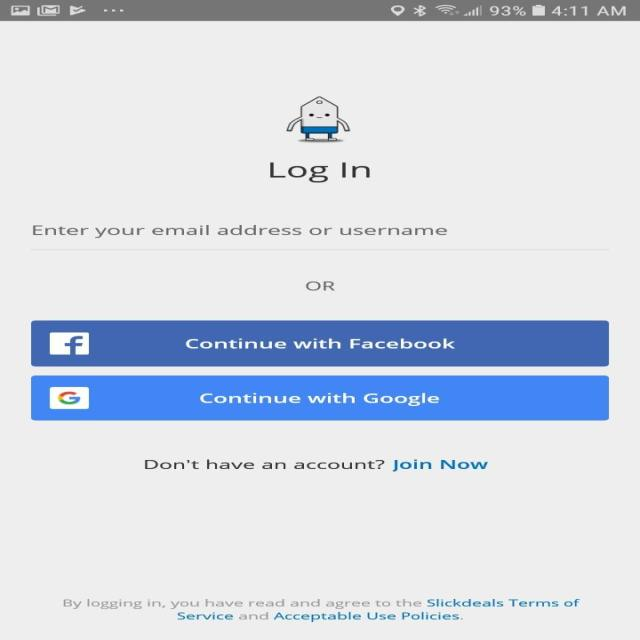EditText: (31, 224, 609, 251)
Image: (286, 96, 350, 142)
Text: (62, 598, 580, 622), (33, 224, 447, 238), (144, 458, 385, 469), (269, 162, 370, 183), (391, 458, 488, 472), (305, 280, 336, 290)
TextButton: (30, 320, 609, 367), (31, 375, 609, 420)
